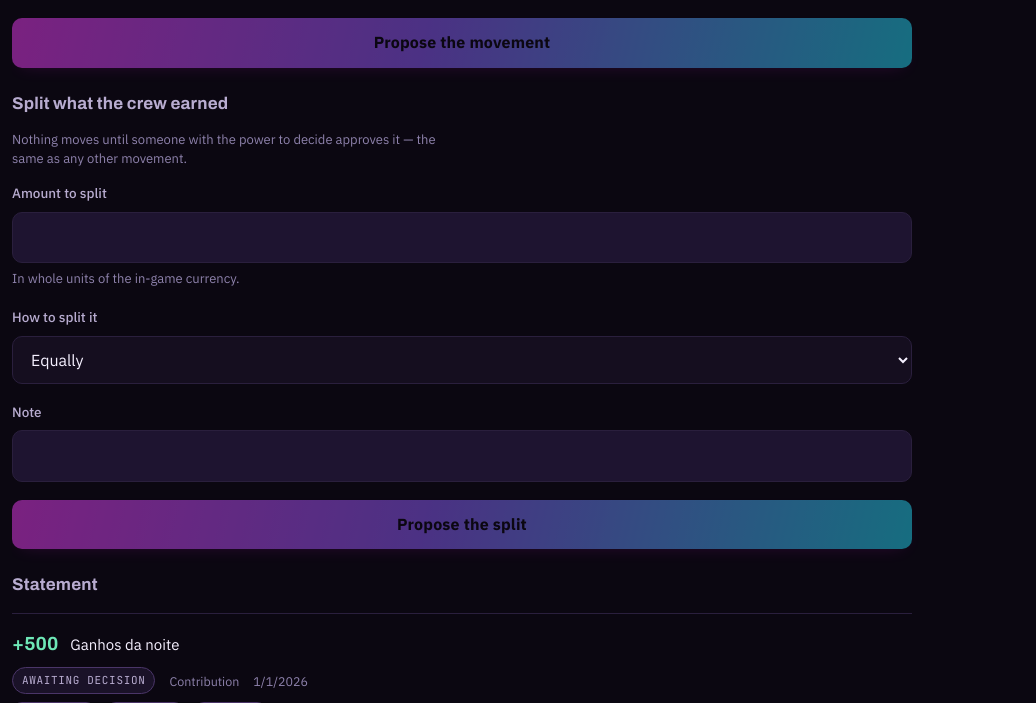
dividir o que a crew ganhou › só pergunta pelos eventos quando a base é por participação
The image size is (1036, 703).
(page scrolled)
Select "Weighted by rank" in the dropdown labelled "How to split it" at coordinates (462, 360), box [12,336,912,384]
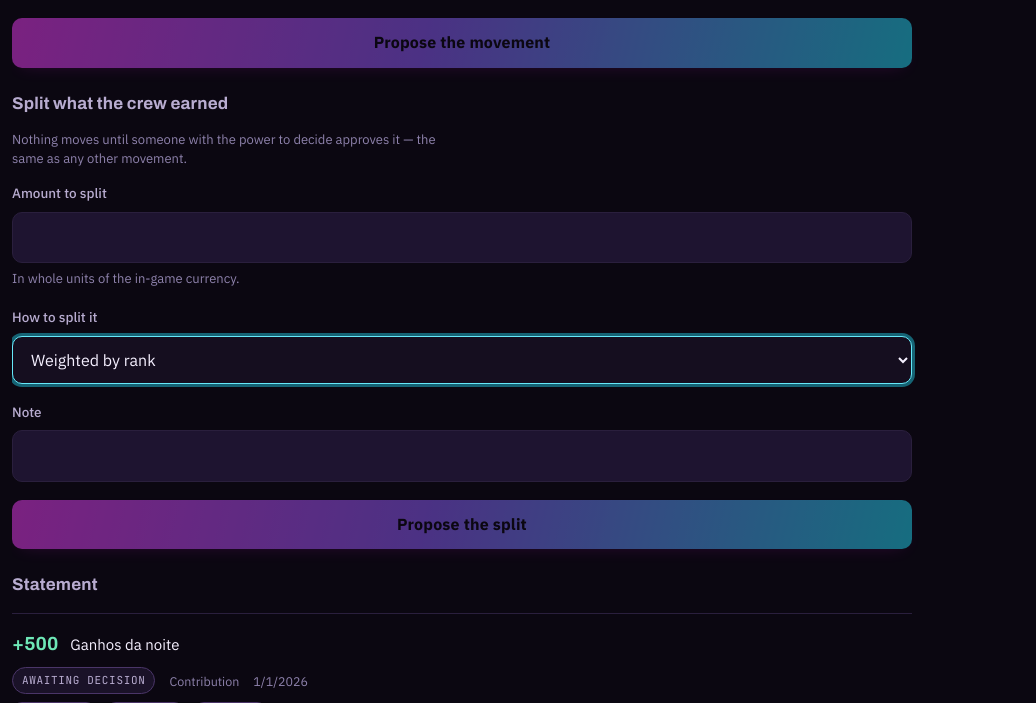
Select "By who turned up" in the dropdown labelled "How to split it" at coordinates (462, 360), box [12,336,912,384]
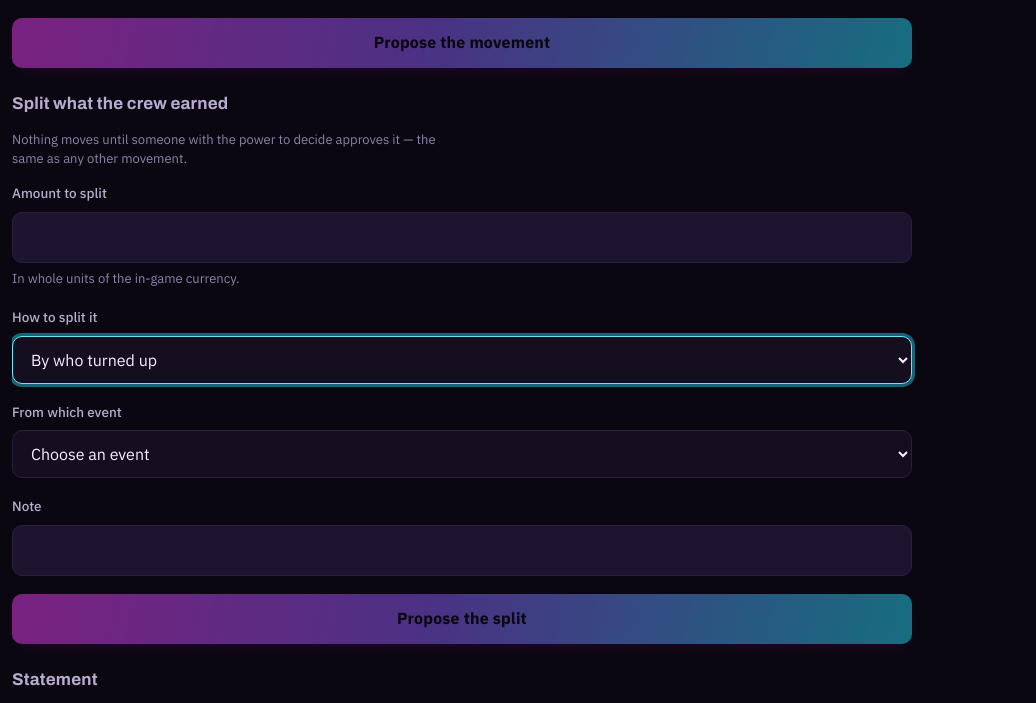
Select "Equally" in the dropdown labelled "How to split it" at coordinates (462, 360), box [12,336,912,384]
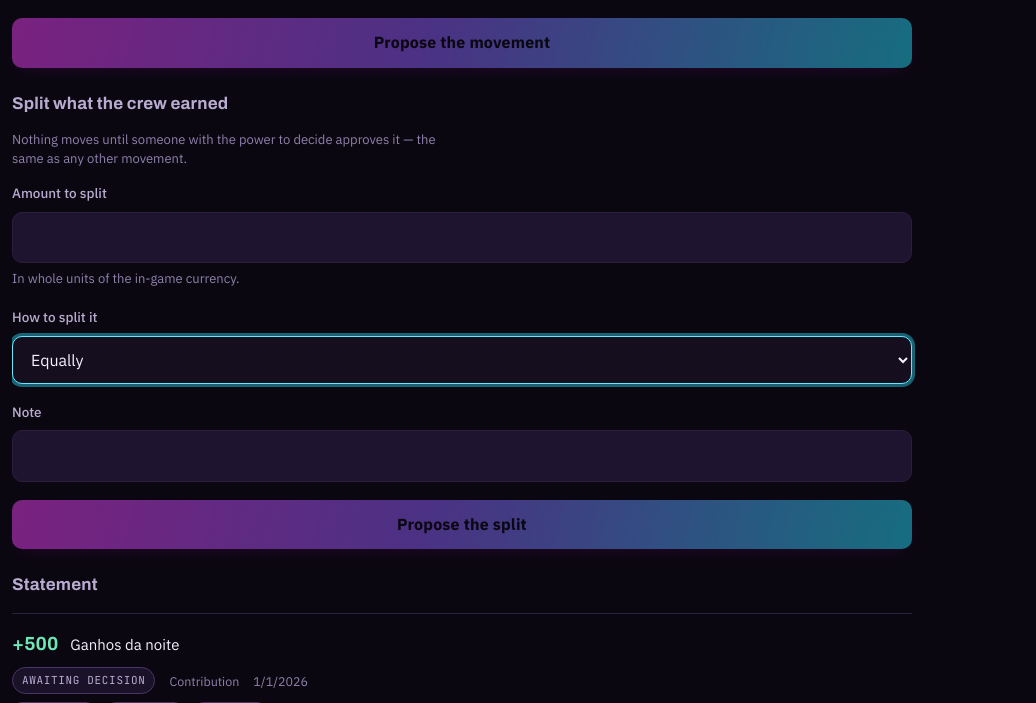
Select "By who turned up" in the dropdown labelled "How to split it" at coordinates (462, 360), box [12,336,912,384]
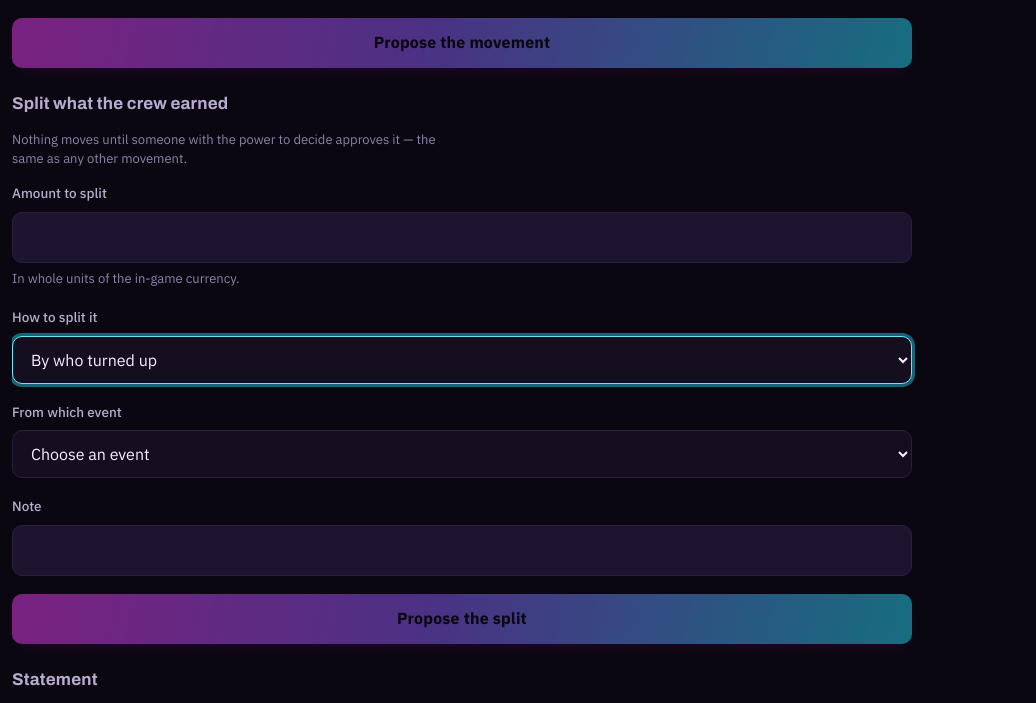
Result: the dropdown labelled "From which event" is shown at [12,430,912,478]
